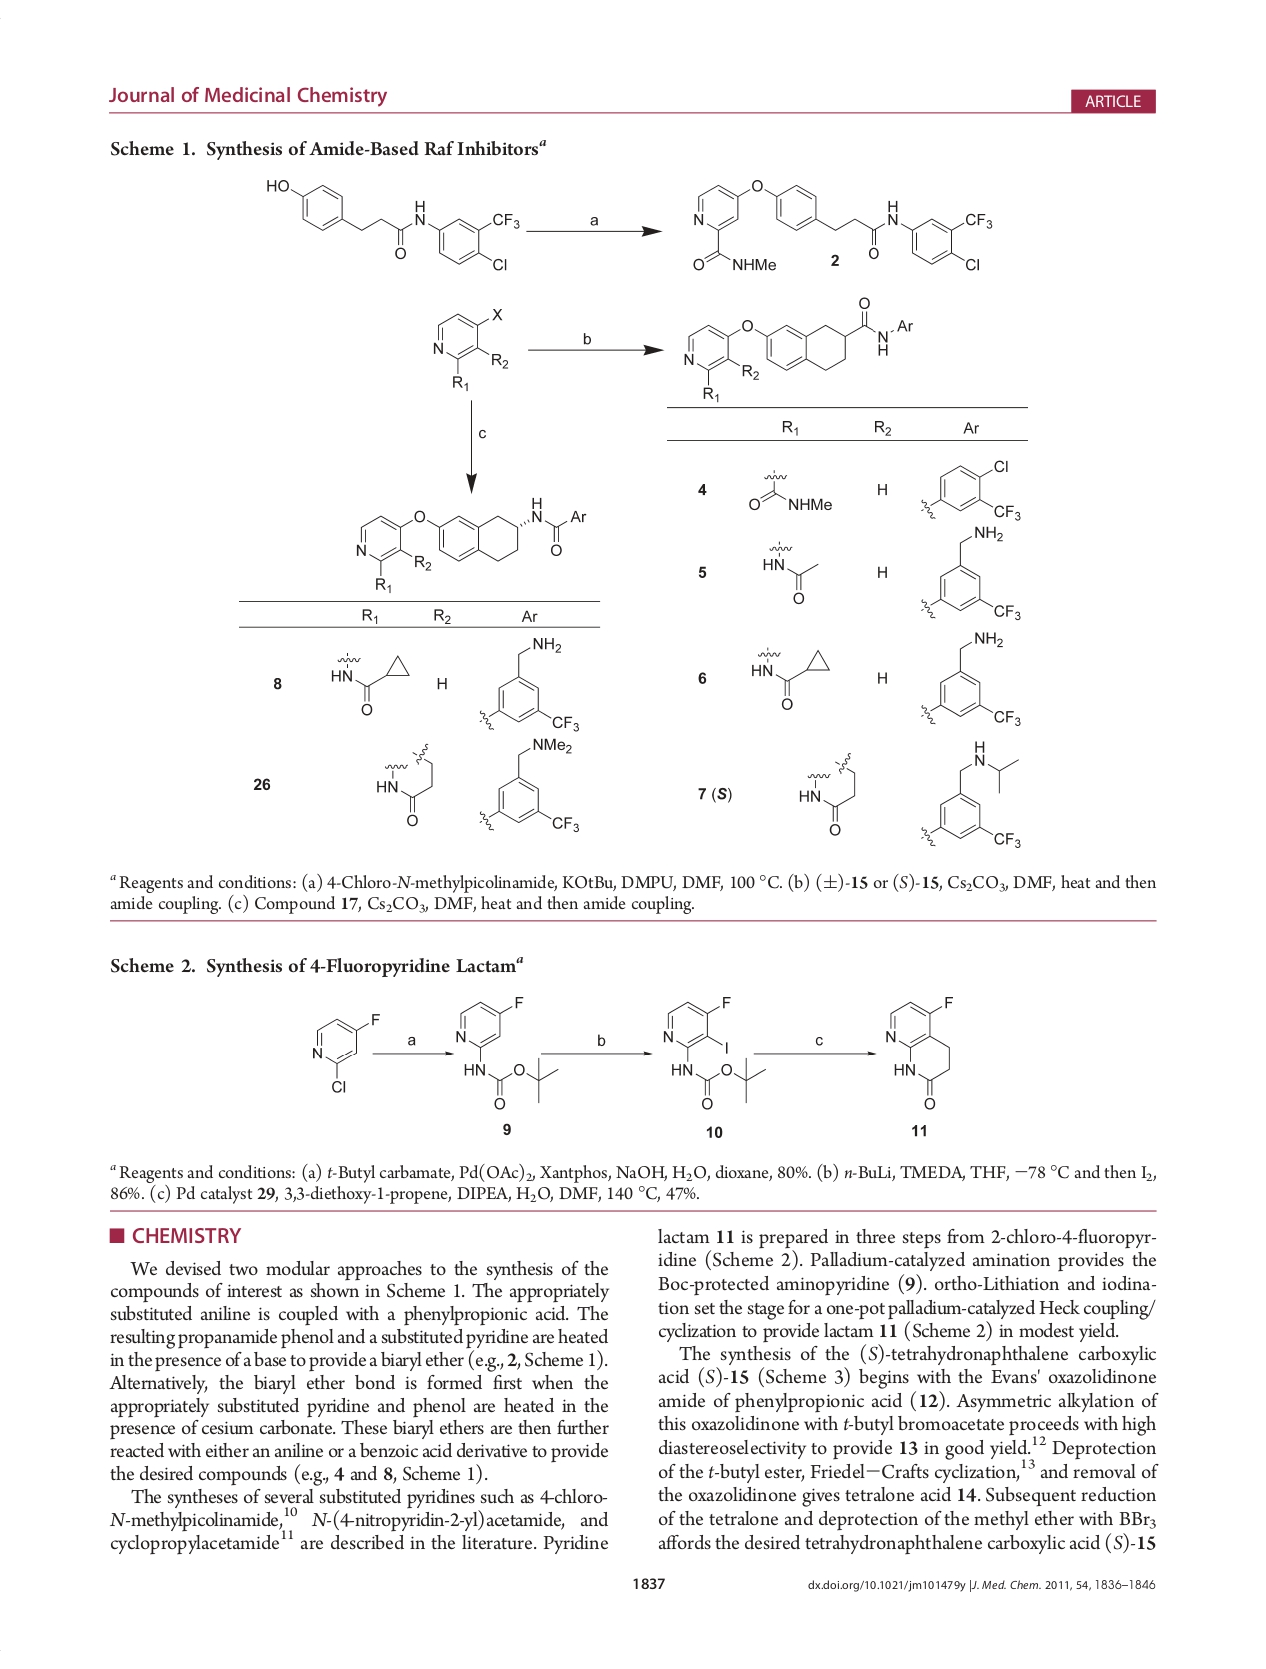exist_molecular: (688, 168, 995, 281), (259, 172, 523, 277), (678, 295, 916, 402), (348, 493, 588, 592), (656, 989, 769, 1110), (916, 738, 1029, 854), (451, 993, 560, 1110), (475, 734, 584, 839), (914, 629, 1028, 727), (472, 634, 581, 735), (918, 527, 1021, 629), (418, 293, 517, 394), (880, 993, 960, 1114), (297, 1001, 382, 1094), (911, 457, 1023, 527), (747, 634, 836, 715), (326, 642, 418, 719), (795, 745, 864, 843), (363, 739, 442, 826), (739, 461, 834, 519), (757, 536, 823, 608)
